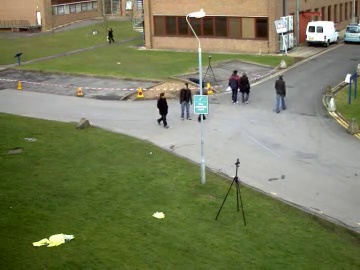person: (178, 83, 194, 120), (153, 91, 169, 126), (155, 91, 169, 127)
